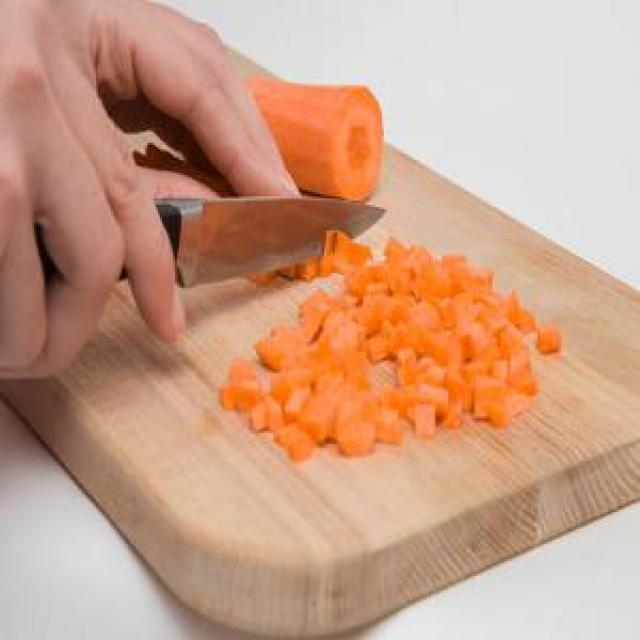knife: (28, 196, 401, 298)
